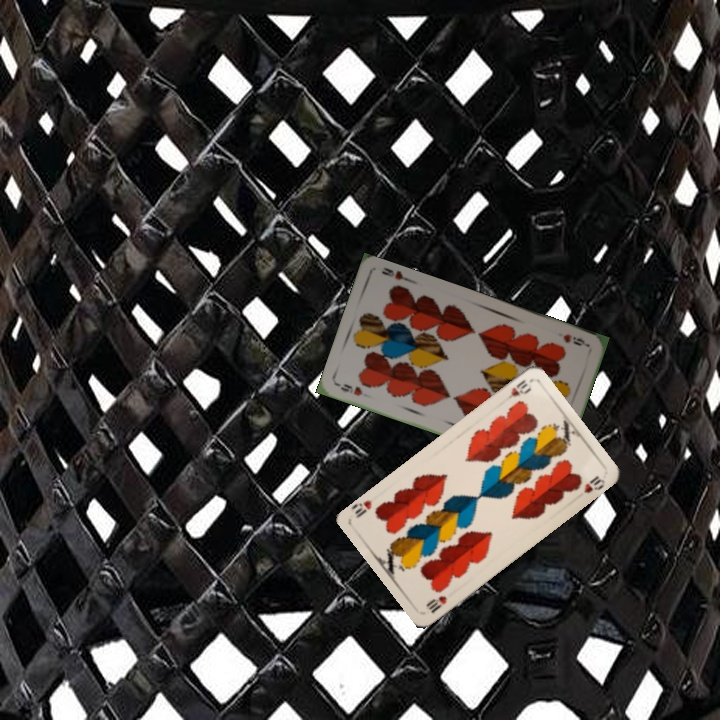H10: (498, 375, 534, 406), (422, 592, 449, 616)
H9: (559, 330, 590, 349), (334, 380, 365, 398)
